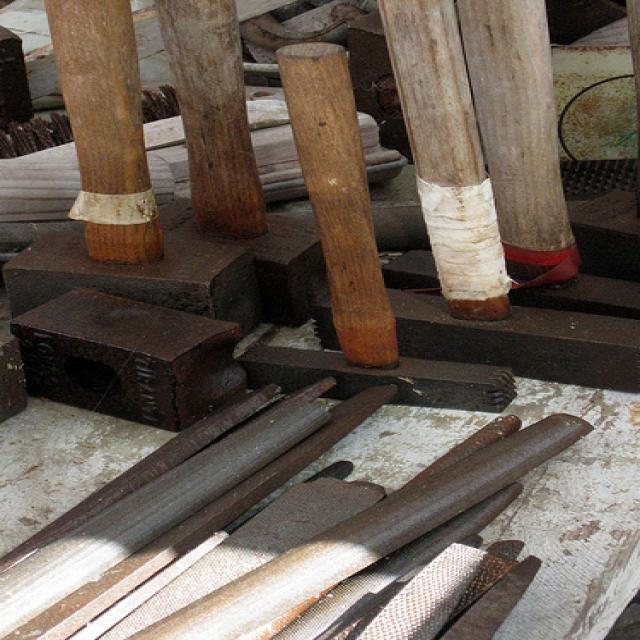hammer: (225, 39, 526, 420), (3, 0, 261, 334)
